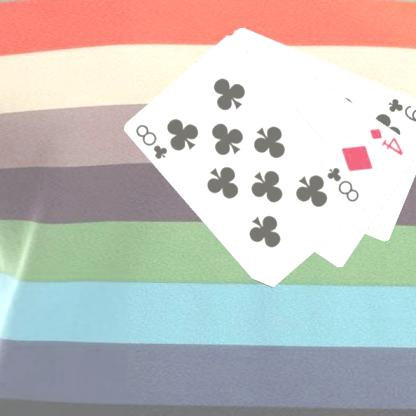4D: (366, 125, 406, 157)
8C: (324, 164, 361, 204), (133, 121, 170, 161)
9C: (385, 95, 416, 124)
